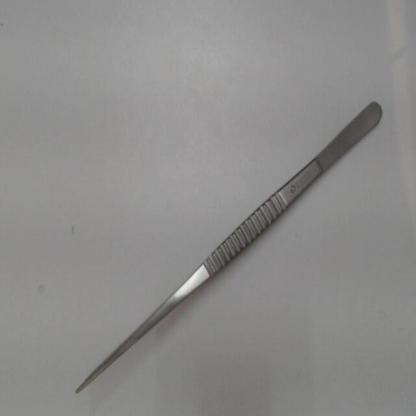DeBakey Dissector: (66, 71, 381, 413)
